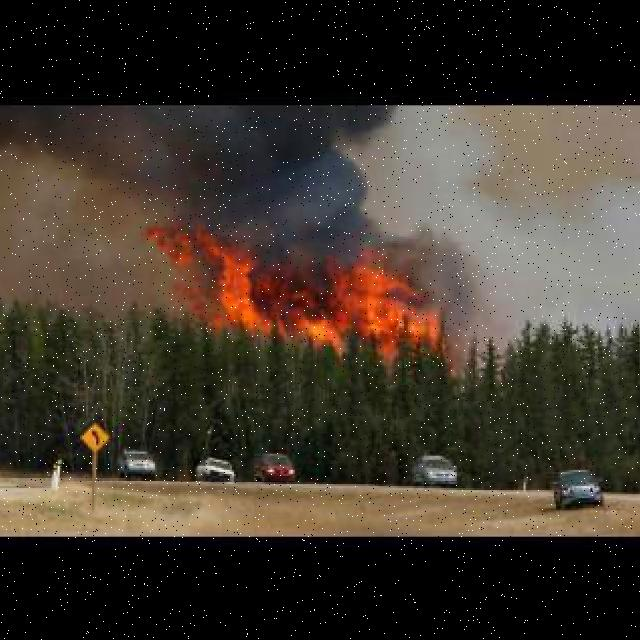fire: (161, 233, 447, 340)
smoke: (0, 103, 414, 247), (382, 215, 493, 310)
